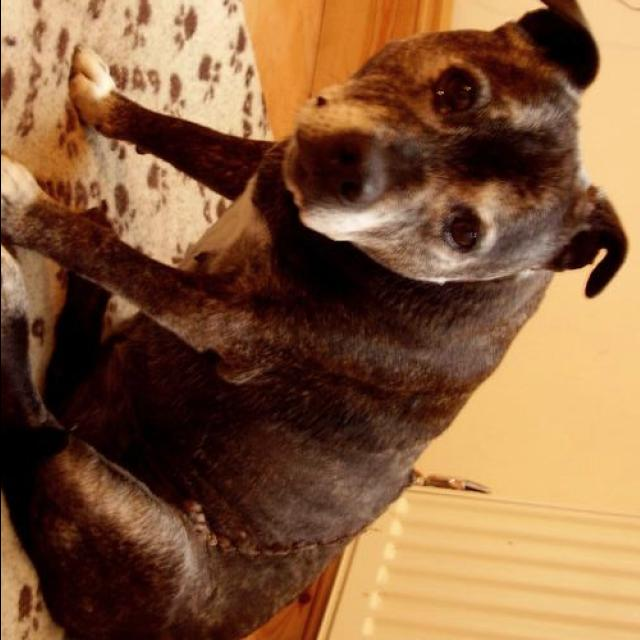staffordshire_bullterrier: (3, 3, 630, 640)
